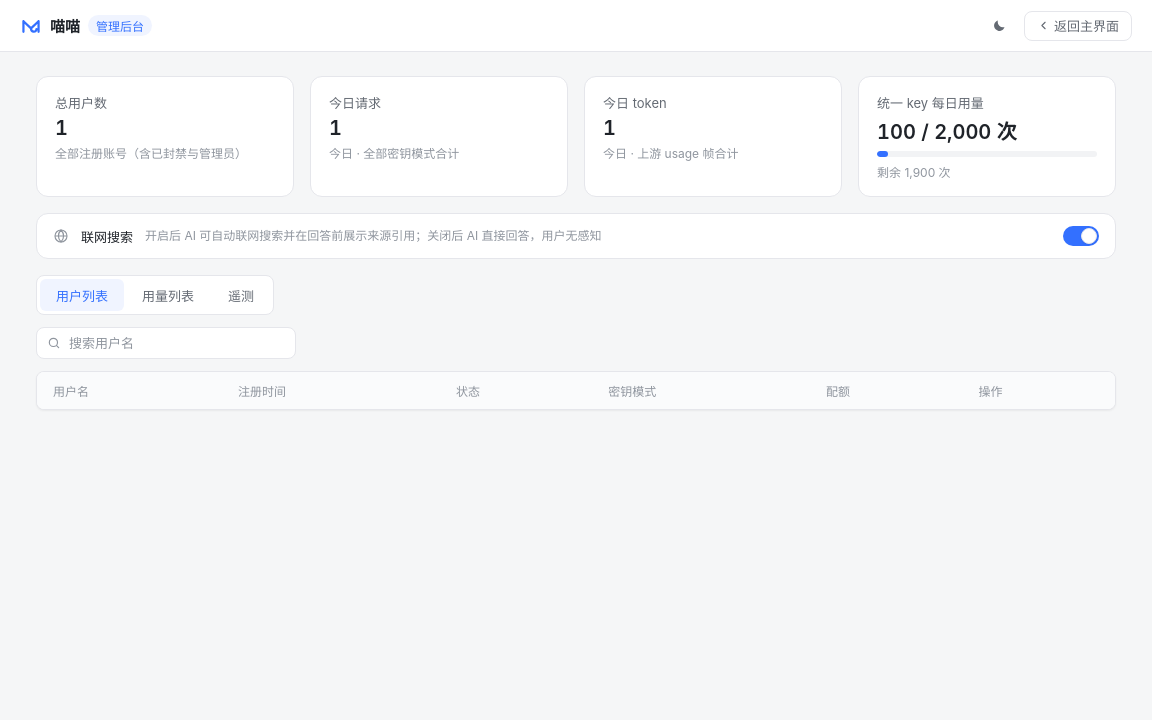
卡 E 位置与标题区（design-iter-16 §4.1，走查条 34/35） › 位于双卡并排区与卡 D 之间（全宽第 4 卡）；标题 C9 + 副题 C10 逐字
The image size is (1152, 720).
Step 1. Click the radio button labelled "遥测" → (241, 295), box x1=212 y1=279 x2=270 y2=311
(page scrolled)
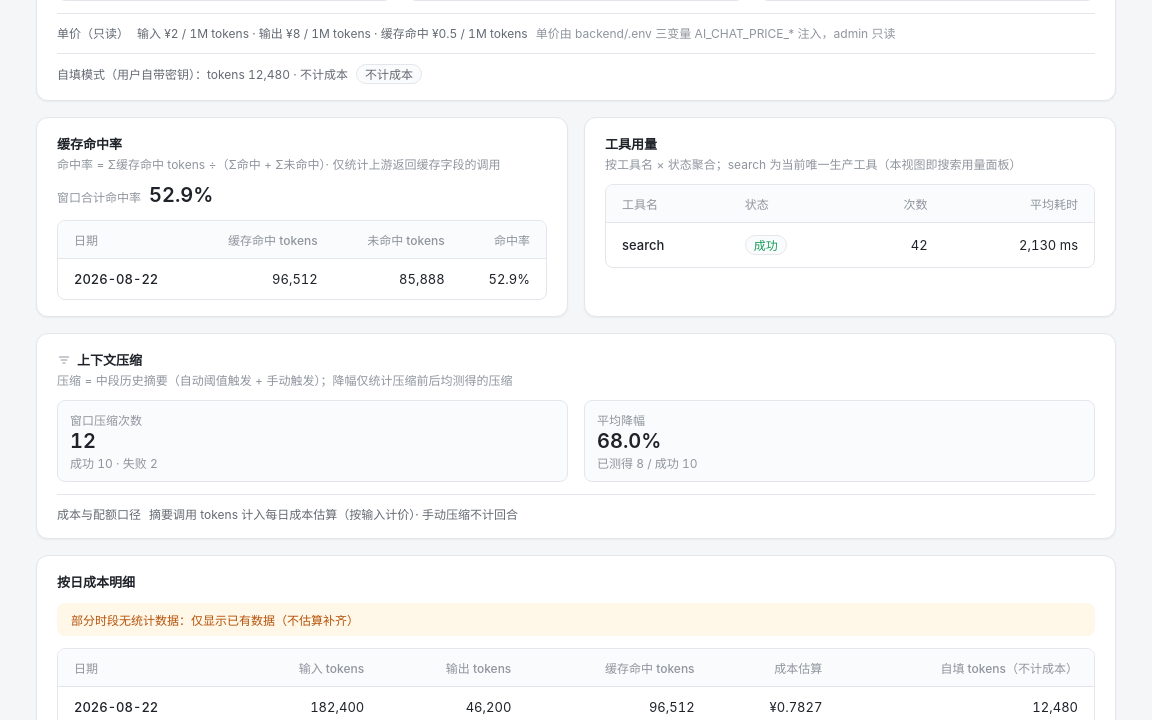
Expected: the element with class "tc-head" reads "上下文压缩", x1=77 y1=352 x2=142 y2=368
Expected: the text with class "tc-head" reads "按日成本明细", x1=57 y1=574 x2=135 y2=590
Expected: the text with class "tc-sub" reads "压缩 = 中段历史摘要（自动阈值触发 + 手动触发）；降幅仅统计压缩前后均测得的压缩", x1=57 y1=373 x2=512 y2=388
